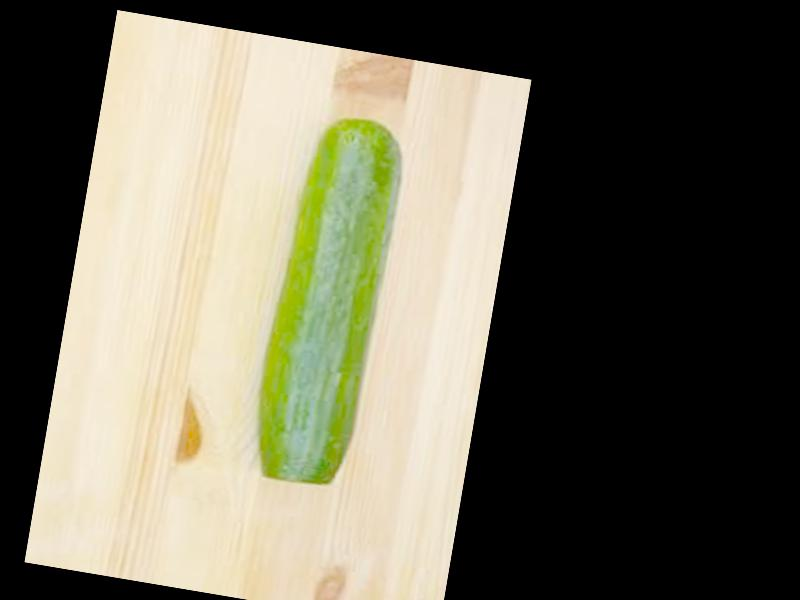Cucumber: (249, 110, 409, 489)
